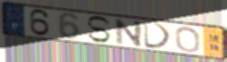6: (57, 12, 82, 42), (29, 8, 51, 37)
D: (142, 21, 174, 51)
N: (113, 18, 144, 48)
O: (174, 26, 202, 54)
S: (85, 15, 113, 44)
